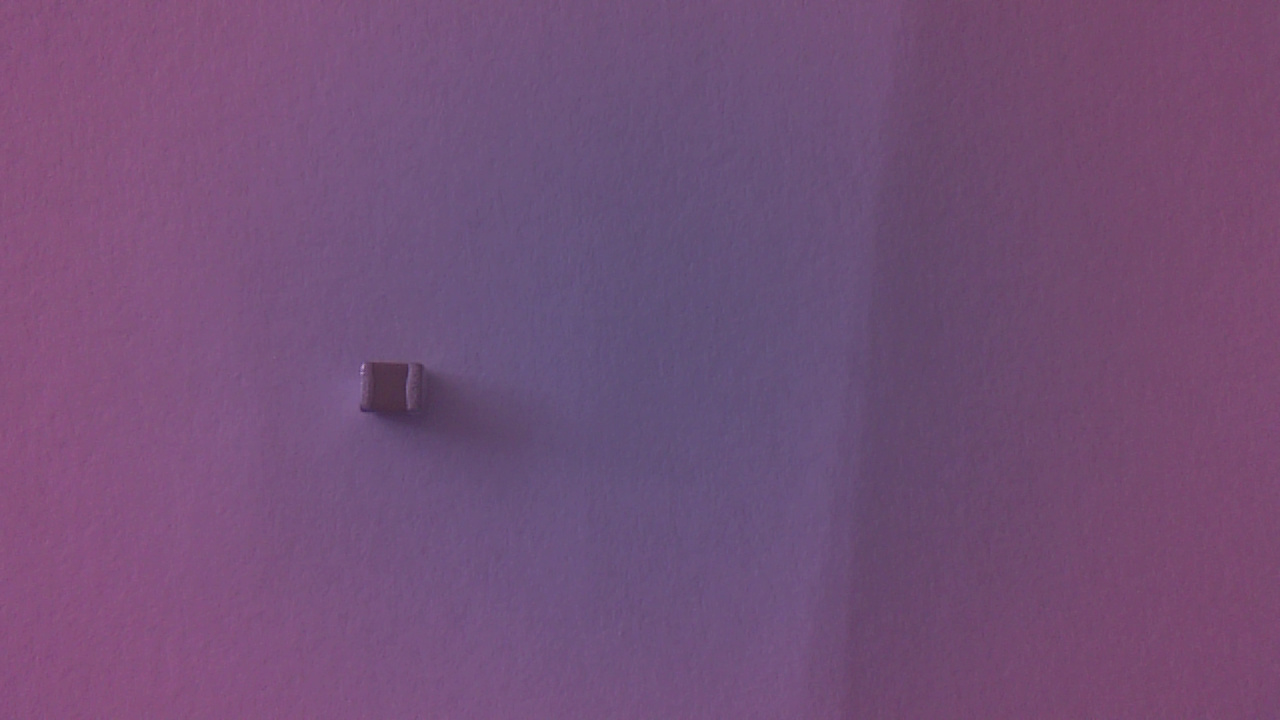Condensator: (360, 360, 435, 424)
